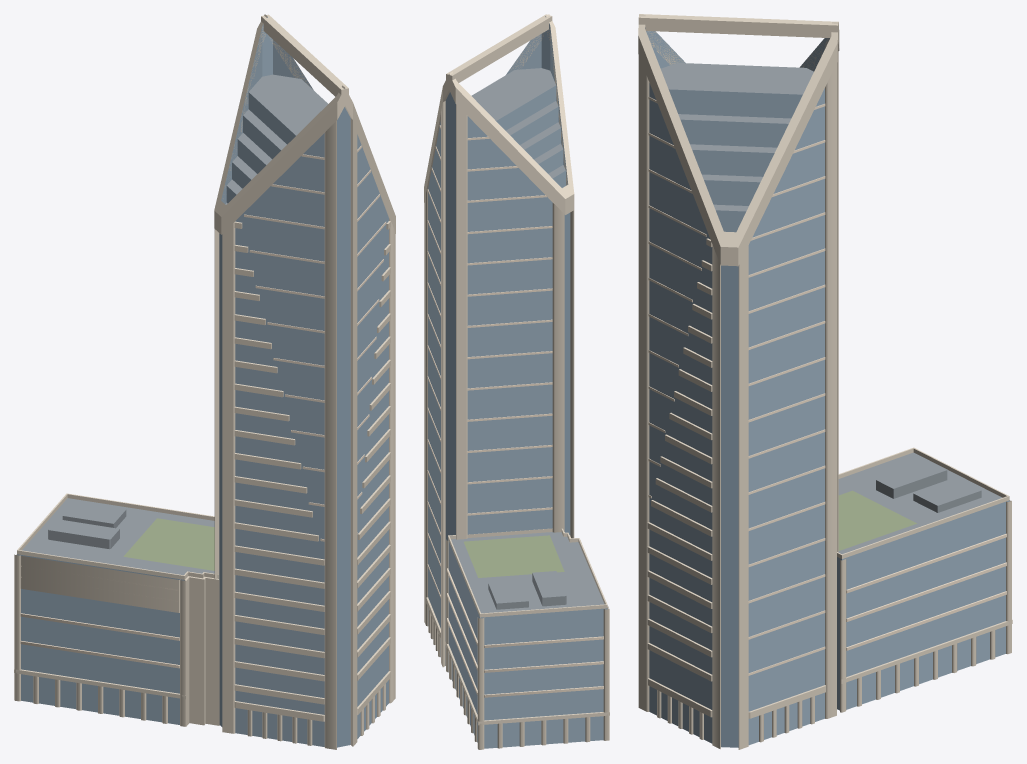
The model's file is detail.glb.
3 renders of one model, left to right at view 1: azimuth 30°, elevation 25°; view 2: azimuth 150°, elevation 25°; view 3: azimuth 270°, elevation 25°, orthographic. The views are drawn at different scales.
Visible parts, largest first — view 1: duke-energy-center; view 2: duke-energy-center; view 3: duke-energy-center.
Part boxes in pixels (left/top/right/bottom): duke-energy-center: left=14, top=14, right=395, bottom=749; duke-energy-center: left=424, top=14, right=609, bottom=749; duke-energy-center: left=638, top=14, right=1012, bottom=749.
Bounding box in the file's own units: 110 × 240 × 118.
